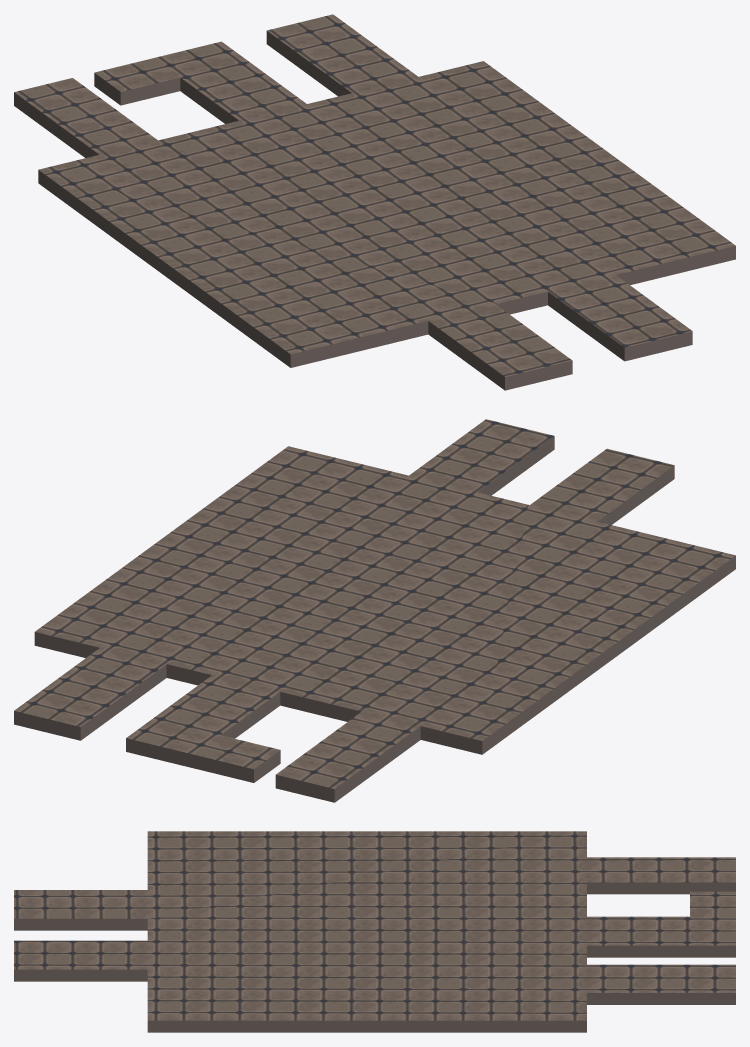
The model's file is 2nd floor.fbx.
3 views of the same model, one above another, from view 1: azimuth 30°, elevation 25°; view 2: azimuth 150°, elevation 25°; view 3: azimuth 270°, elevation 25° (orthographic). The views are drawn at different scales.
Parts seen in each view (by area): view 1: 2nd; view 2: 2nd; view 3: 2nd.
Boxes of the visible parts, <box> form: 2nd: <box>14,14,735,390</box>; 2nd: <box>14,419,735,802</box>; 2nd: <box>14,831,735,1032</box>.
Bounding box in the file's own units: 2089 × 61.37 × 3369.
